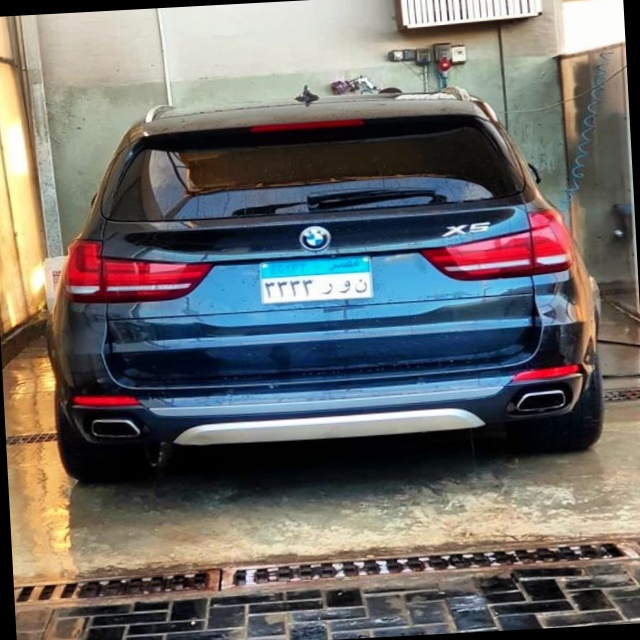License Plate: (258, 254, 375, 307)
